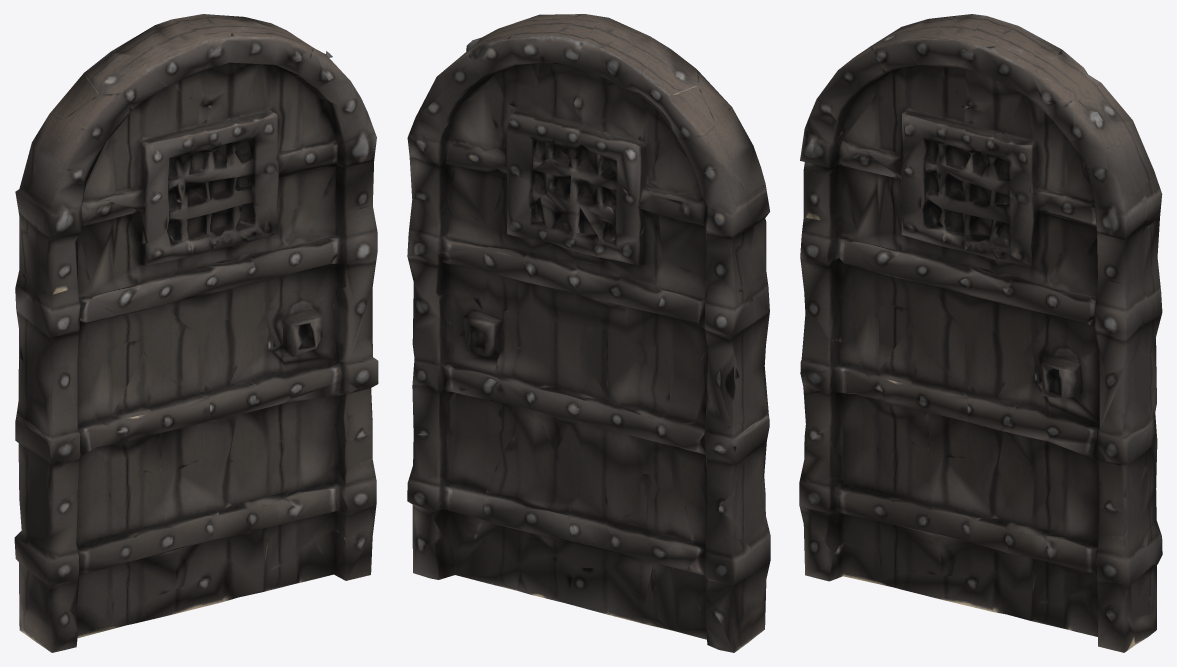
File: iron_door_barred.glb
3 renders of one model, left to right at view 1: azimuth 30°, elevation 25°; view 2: azimuth 150°, elevation 25°; view 3: azimuth 330°, elevation 25°, orthographic.
Bounding box in the file's own units: 1.2 × 2 × 0.2588.
1 material, 1 textured.
